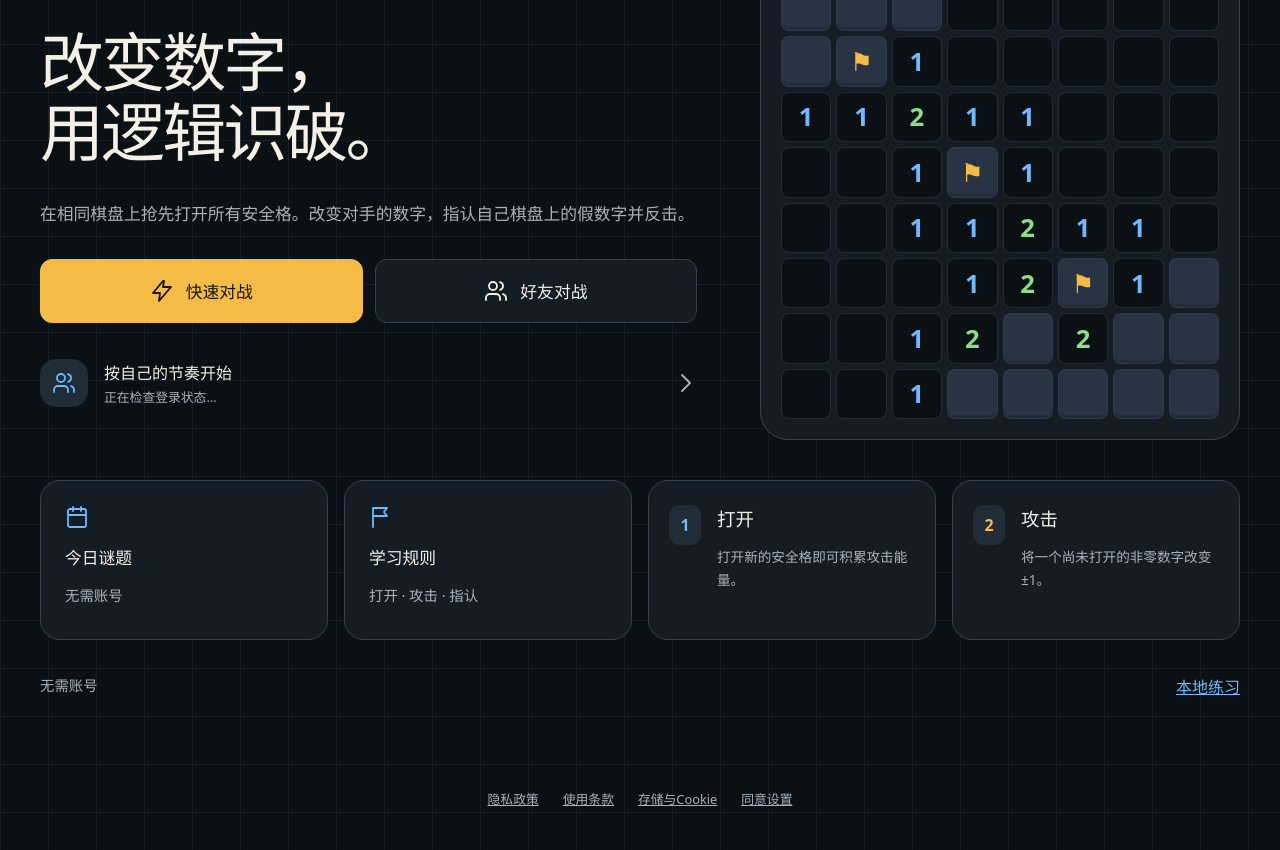
Test: zh-CN renders each purpose and clearing boundary in its own locale
(page scrolled)
Click the link "存储与Cookie" at (678, 798), box x1=638 y1=790 x2=717 y2=808
(page scrolled)
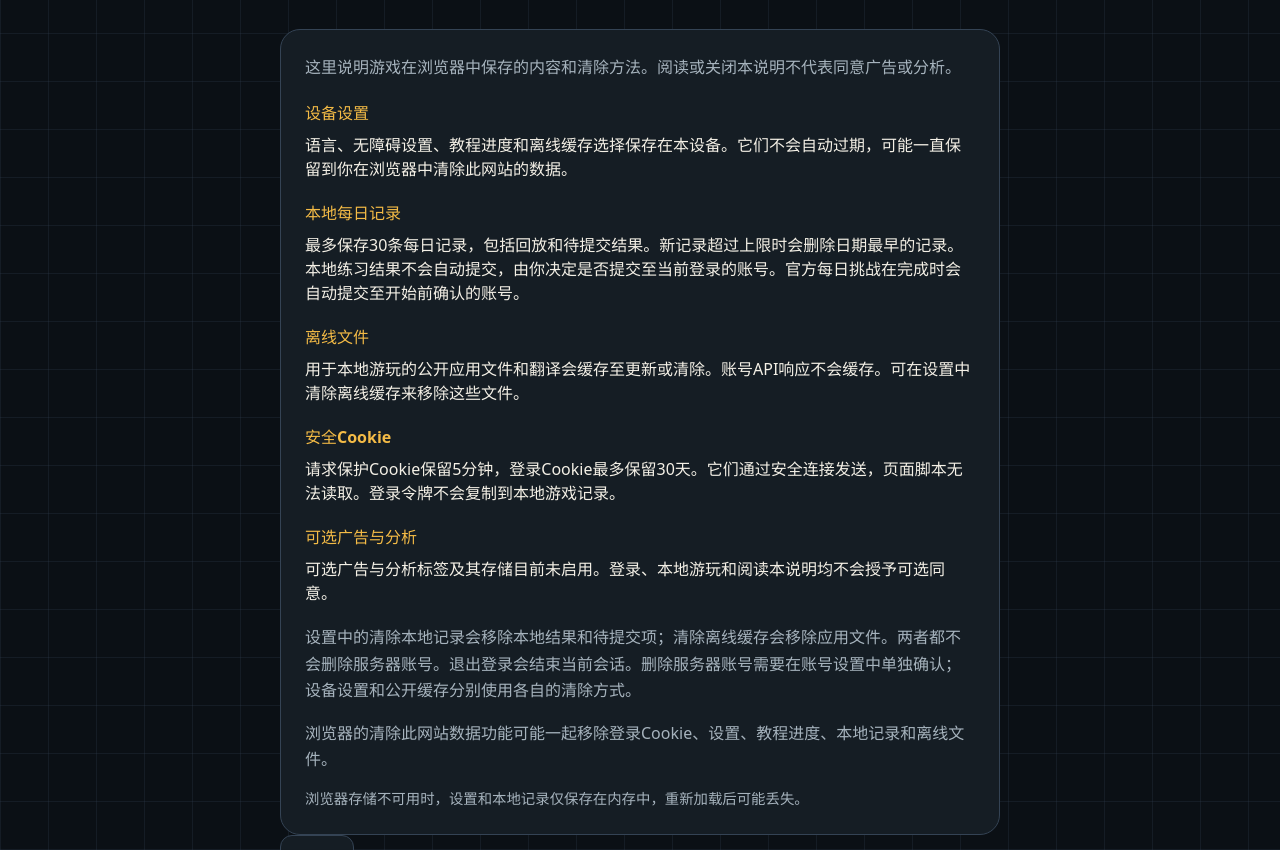
Check: the text "设备设置" is shown, box x1=305 y1=102 x2=369 y2=124
Check: the text "语言、无障碍设置、教程进度和离线缓存选择保存在本设备。它们不会自动过期，可能一直保留到你在浏览器中清除此网站的数据。" is shown, box x1=305 y1=132 x2=975 y2=180
Check: the text "本地每日记录" is shown, box x1=305 y1=202 x2=401 y2=224
